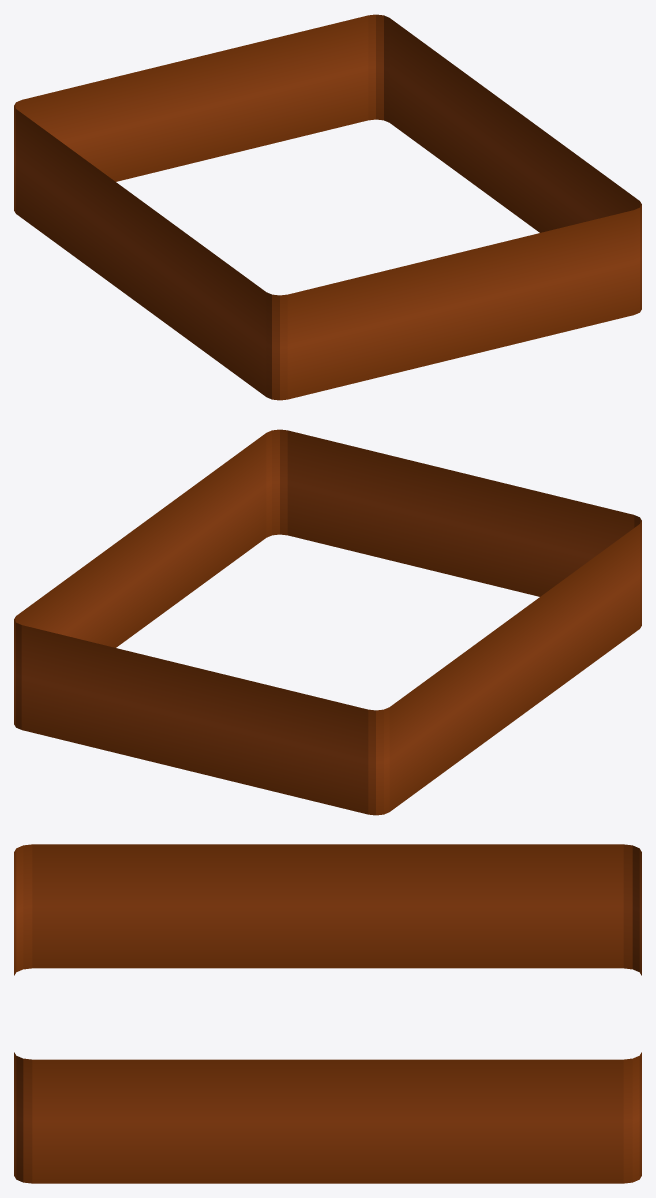
Rendered from grass_hill_003.fbx.
The picture shows the model from 3 angles, top to bottom: view 1: azimuth 30°, elevation 25°; view 2: azimuth 150°, elevation 25°; view 3: azimuth 270°, elevation 25°; orthographic projection. The views are drawn at different scales.
Visible parts, largest first — view 1: grass_hill.003; view 2: grass_hill.003; view 3: grass_hill.003.
Part boxes in pixels (bbox=[...]): grass_hill.003: bbox=[14, 14, 641, 400]; grass_hill.003: bbox=[14, 429, 641, 815]; grass_hill.003: bbox=[14, 844, 641, 1183].
Bounding box in the file's own units: 391 × 105 × 482.
